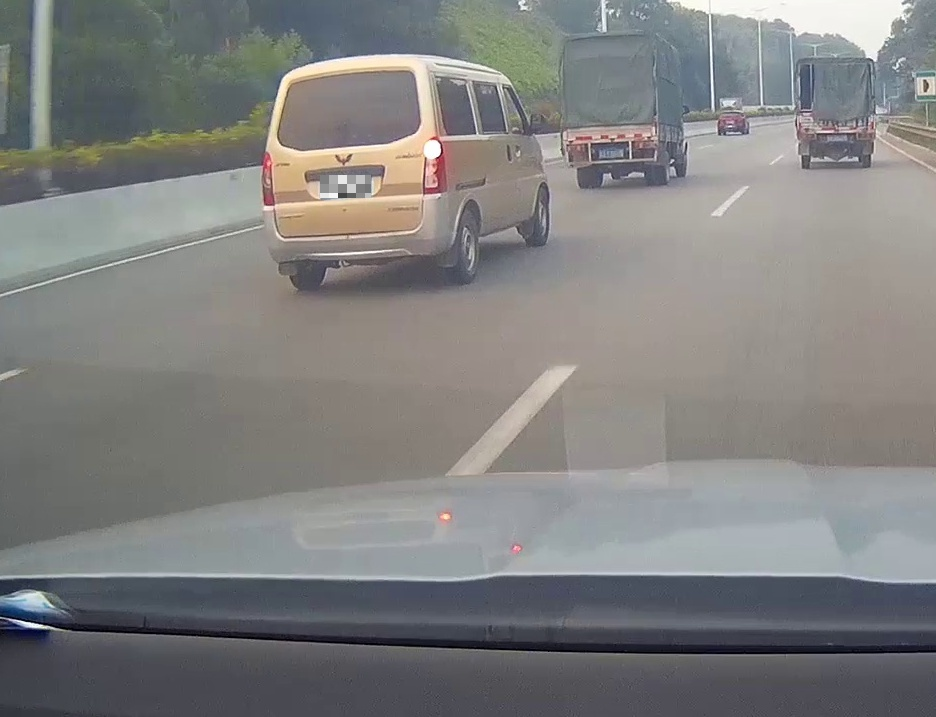L_light: (262, 152, 275, 206), (566, 144, 586, 152), (799, 134, 814, 140)
R_light: (423, 136, 448, 194), (632, 141, 655, 150), (858, 133, 874, 139)
T_light: (329, 67, 361, 78), (831, 123, 844, 127), (607, 130, 618, 134)
day-no: (558, 28, 660, 188), (795, 56, 875, 168)
day-right: (261, 54, 450, 290)
plate_1: (320, 175, 371, 198)
